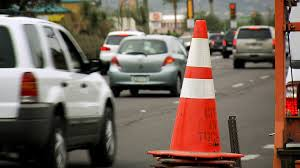car: (1, 17, 118, 165), (109, 35, 189, 98), (233, 26, 281, 68)
cone: (166, 19, 223, 155)
